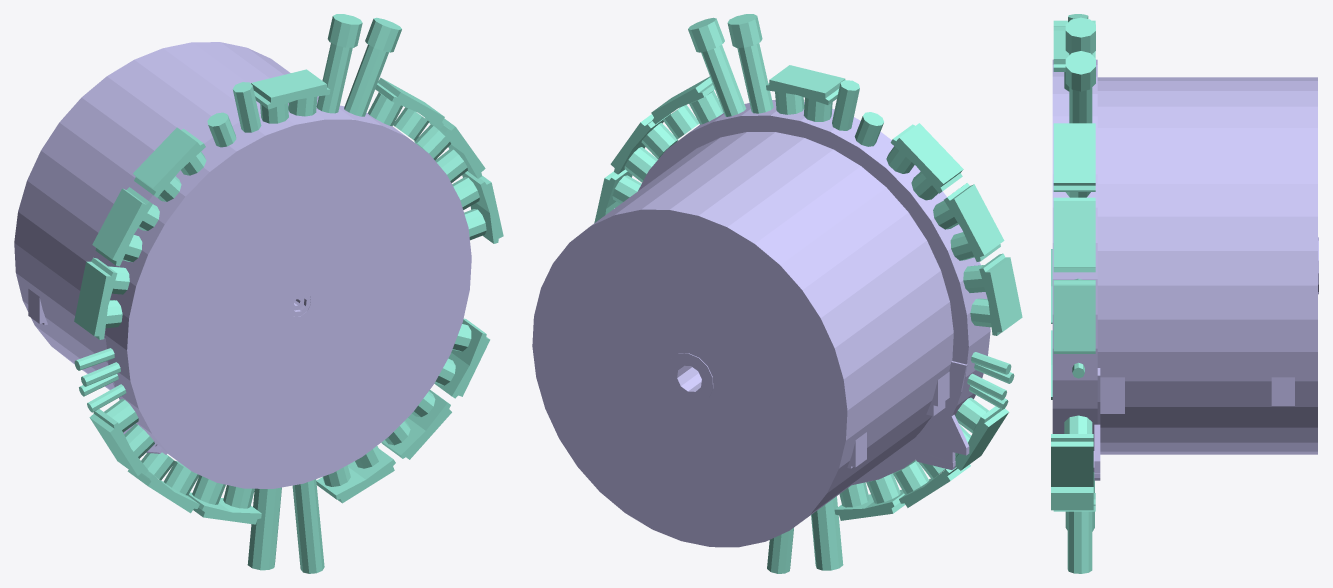
The model's file is Lar-EMEC-SideA.glb.
3 renders of one model, left to right at view 1: azimuth 30°, elevation 25°; view 2: azimuth 150°, elevation 25°; view 3: azimuth 270°, elevation 25°, orthographic. The views are drawn at different scales.
Visible parts, largest first — view 1: null; view 2: null; view 3: null.
Part boxes in pixels (x1,y1,x2,y2): null: (14,14,503,573); null: (532,14,1022,573); null: (1051,14,1318,573).
Bounding box in the file's own units: 5.9 × 7.47 × 3.21.
